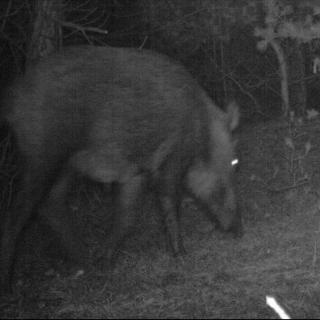Pig: (0, 23, 264, 264)
